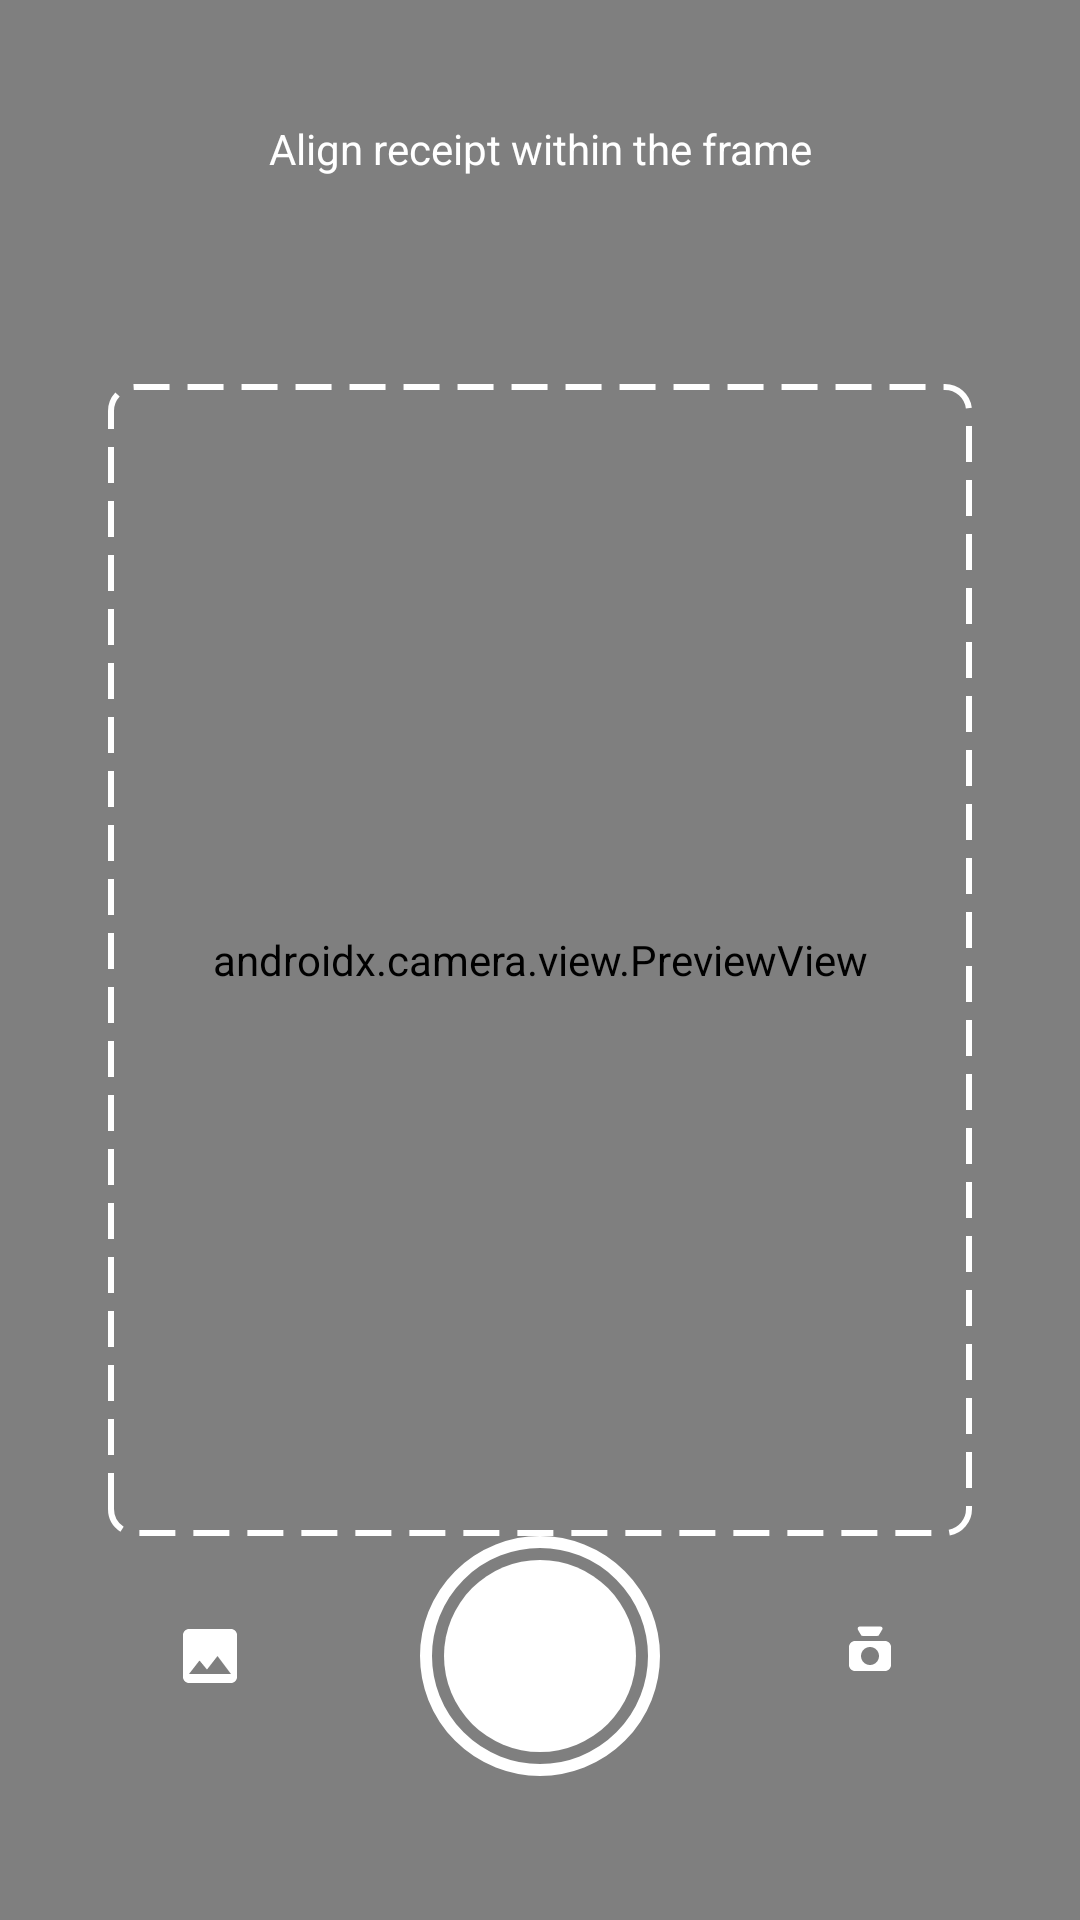

Icon bounding boxes for this 1080w x 1920h phone screenshot, format (x1, y1, x2, y2):
Capture Photo: (444, 1560, 636, 1752)
Open Gallery: (183, 1629, 237, 1683)
Switch Camera: (849, 1626, 891, 1671)
